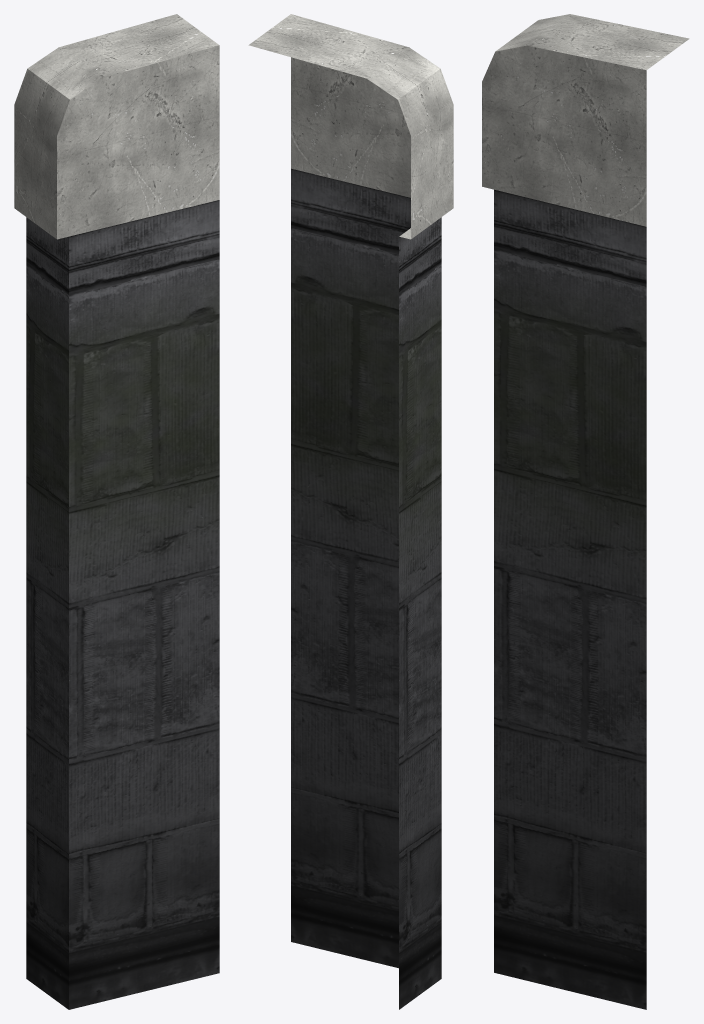
Rendered from SM_Banchina_Testata_Fine_LOD2.fbx.
3 renders of one model, left to right at view 1: azimuth 30°, elevation 25°; view 2: azimuth 150°, elevation 25°; view 3: azimuth 330°, elevation 25°, orthographic.
Parts seen in each view (by area): view 1: SM_Banchina_Testata_Fine_LOD2; view 2: SM_Banchina_Testata_Fine_LOD2; view 3: SM_Banchina_Testata_Fine_LOD2.
Part boxes in pixels (<box>): SM_Banchina_Testata_Fine_LOD2: <box>14,14,219,1009</box>; SM_Banchina_Testata_Fine_LOD2: <box>248,14,453,1009</box>; SM_Banchina_Testata_Fine_LOD2: <box>482,14,689,1009</box>.
Size of the model in its own units: 55 by 25 by 300.
Materials: 2 (2 with a texture image).
